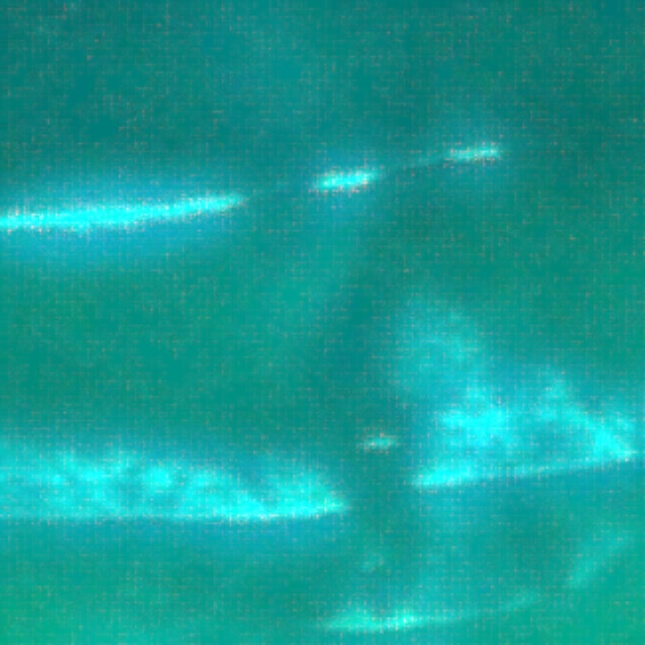rip_current: (286, 247, 458, 597)
